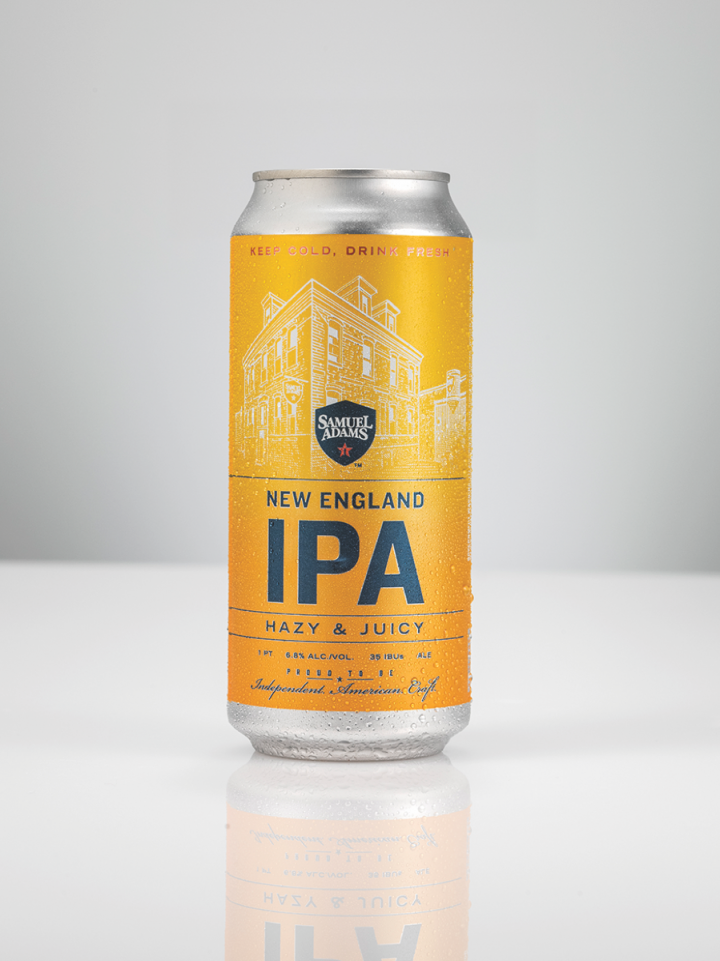beer can: (214, 158, 474, 763)
